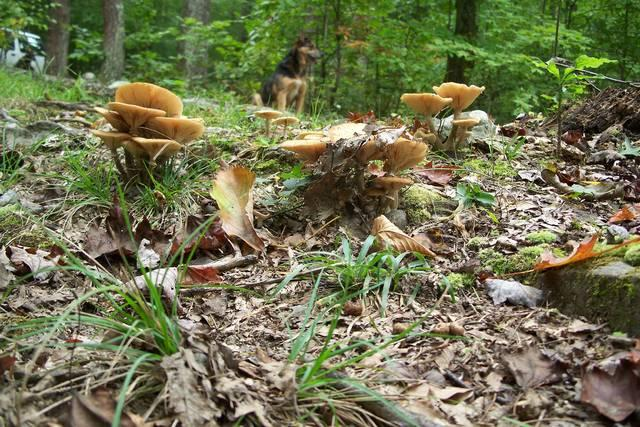edible_mushroom: (90, 80, 204, 185), (270, 124, 440, 178), (399, 75, 487, 141)
